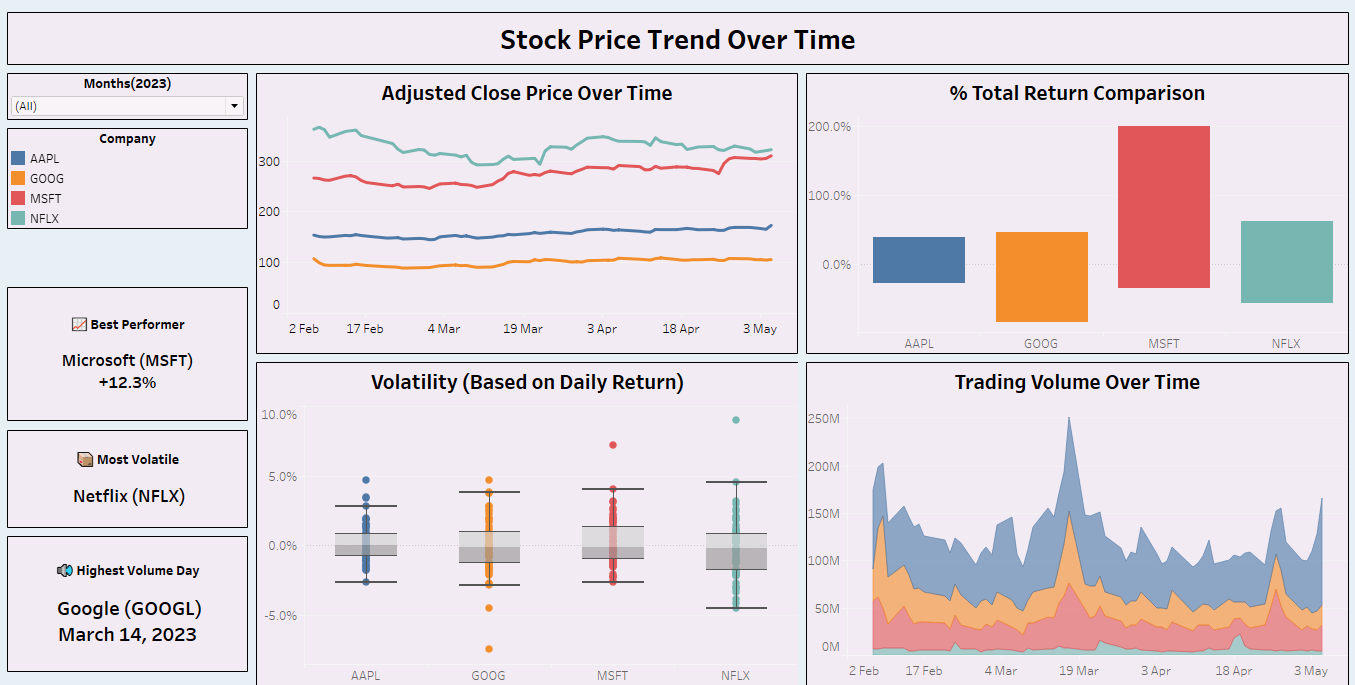

Layout of this report page (visuals, bound fields, positions):
{"tool":"tableau","page":{"name":"Stock Market Summary","canvas":[1000,1000],"units":"permille","ordinal":0},"visuals":[{"type":"title","box":[6.9,14.5,986.1,110.5]},{"type":"filter","title":"Adjusted Close Price Over Time","param":"[federated.1txa5d002w42mp19zzwjx0ydbnun].[mn:Date:ok]","box":[6.9,125,181.7,99.6]},{"type":"worksheet","title":"Adjusted Close Price Over Time","mark":"Line","rows":["Adj Close"],"cols":["Date"],"box":[188.7,125,401.8,400.4]},{"type":"worksheet","title":"% Total Return Comparison","mark":"Bar","cols":["Ticker"],"box":[590.4,125,402.7,400.4]},{"type":"legend","title":"Adjusted Close Price Over Time","param":"[federated.1txa5d002w42mp19zzwjx0ydbnun].[none:Ticker:nk]","box":[6.9,224.6,181.7,197.5]},{"type":"text","box":[6.9,422.1,181.7,197]},{"type":"worksheet","title":"Volatility (Based on Daily Return)","mark":"Circle","cols":["Ticker"],"box":[188.7,525.4,402.2,460.2]},{"type":"worksheet","title":"Trading Volume Over Time","mark":"Area","rows":["Volume"],"cols":["Date"],"box":[590.8,525.4,402.2,460.2]},{"type":"text","box":[6.9,619.1,181.7,183.2]},{"type":"text","box":[6.9,802.3,181.7,183.2]}]}

Visuals, with their boxes on the dashboard's canvas, which has no fixed pixel size, in thousandths of its width and height (x1, y1, x2, y2). These are canvas units, not pixel positions in the 1355x685 screenshot, which may show the page scaled, cropped or inside an application window:
title: Rect(7, 14, 993, 125)
"Adjusted Close Price Over Time" filter: Rect(7, 125, 189, 225)
"Adjusted Close Price Over Time" worksheet (Line marks): Rect(189, 125, 590, 525)
"% Total Return Comparison" worksheet (Bar marks): Rect(590, 125, 993, 525)
"Adjusted Close Price Over Time" legend: Rect(7, 225, 189, 422)
text: Rect(7, 422, 189, 619)
"Volatility (Based on Daily Return)" worksheet (Circle marks): Rect(189, 525, 591, 986)
"Trading Volume Over Time" worksheet (Area marks): Rect(591, 525, 993, 986)
text: Rect(7, 619, 189, 802)
text: Rect(7, 802, 189, 986)
